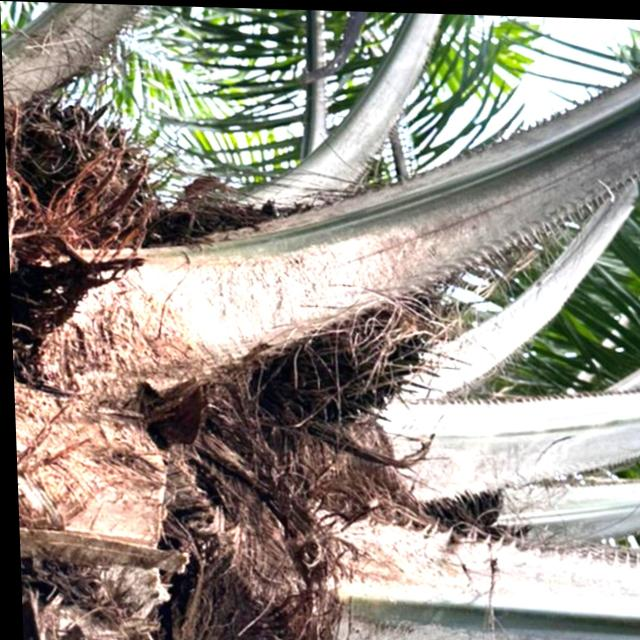unripe: (126, 180, 453, 434), (13, 86, 162, 288)
